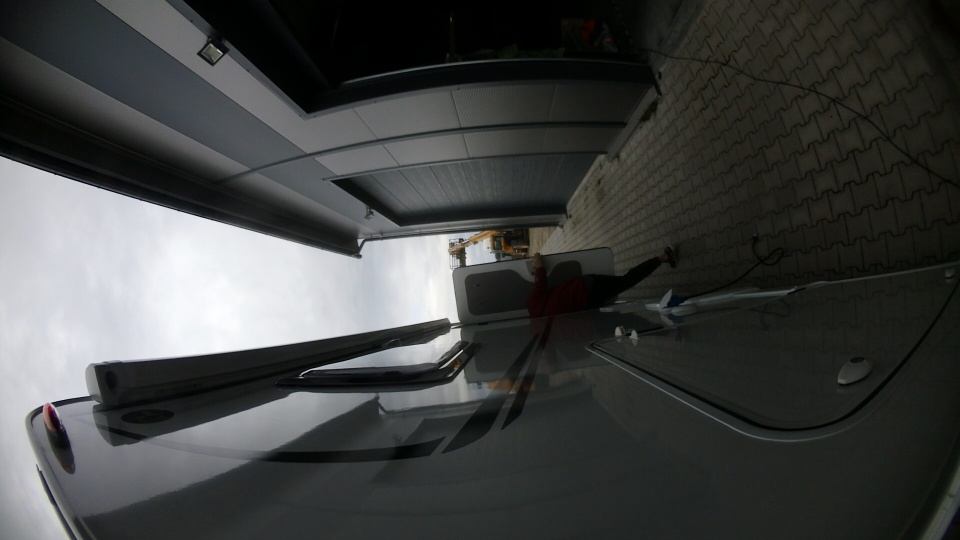door_back: (449, 245, 632, 329)
